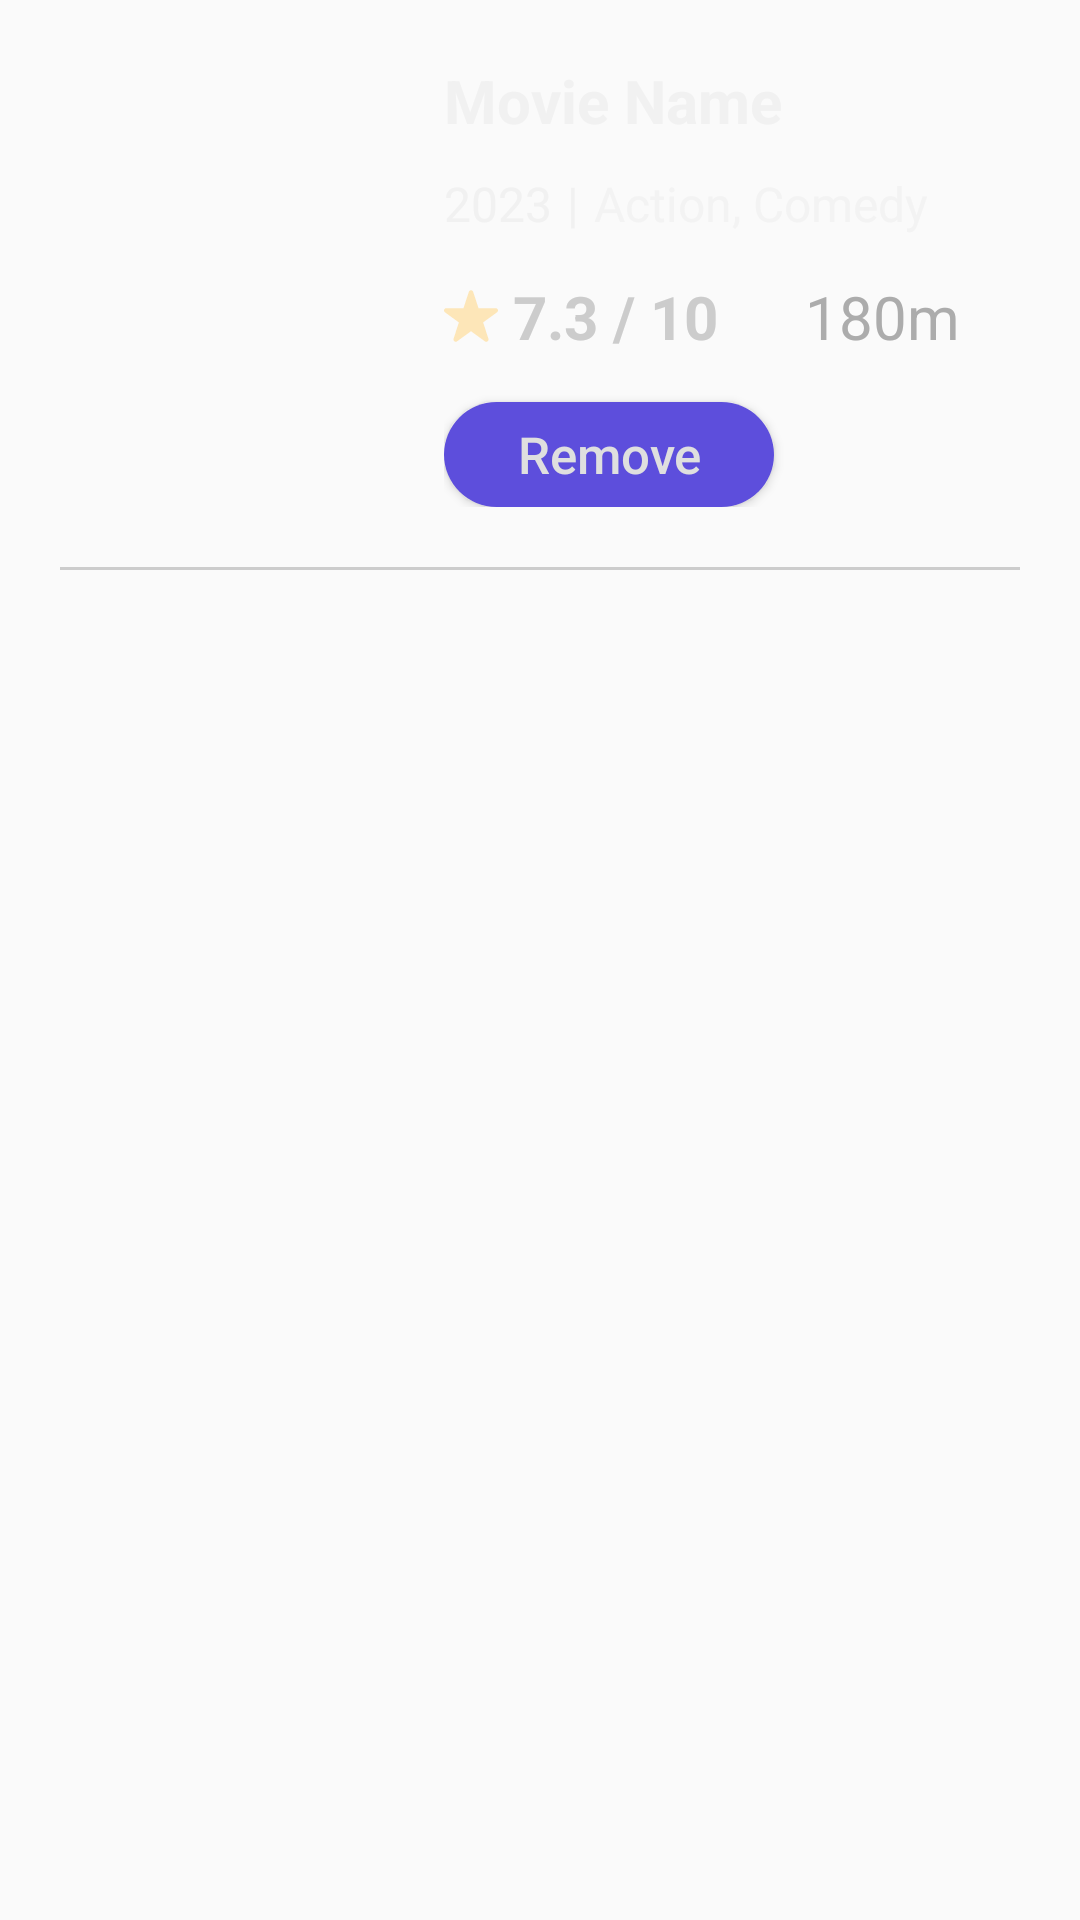

Where to tap for icons on this 1080 x 1920 app screen, as [x,y]:
star: [471,316]
